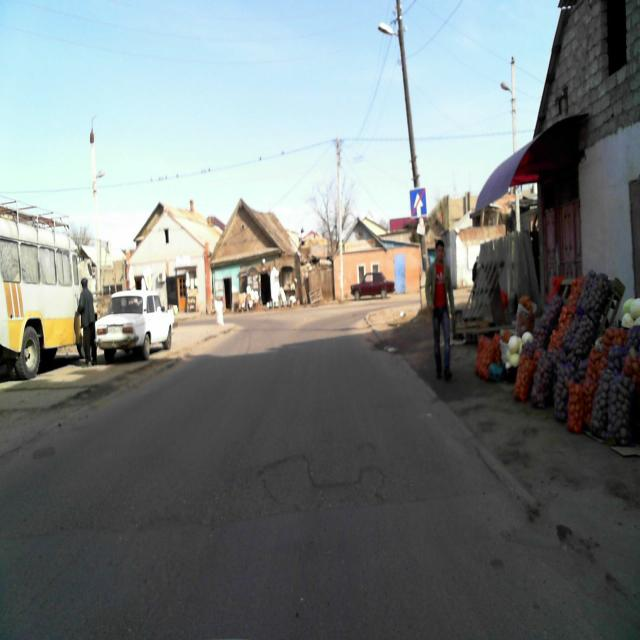road sign: (409, 188, 427, 215)
